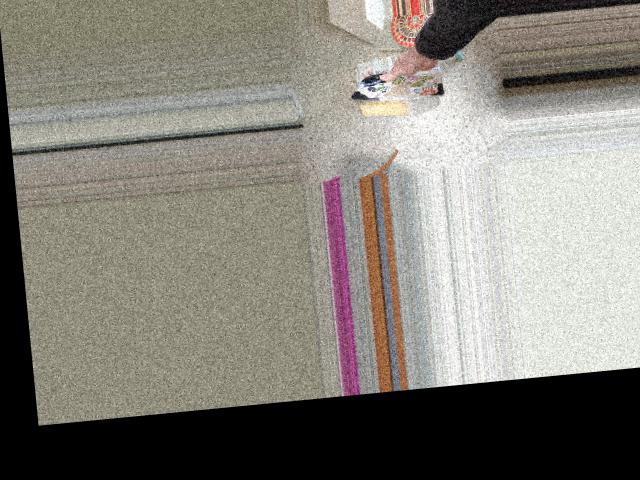cheese: (343, 43, 459, 144)
